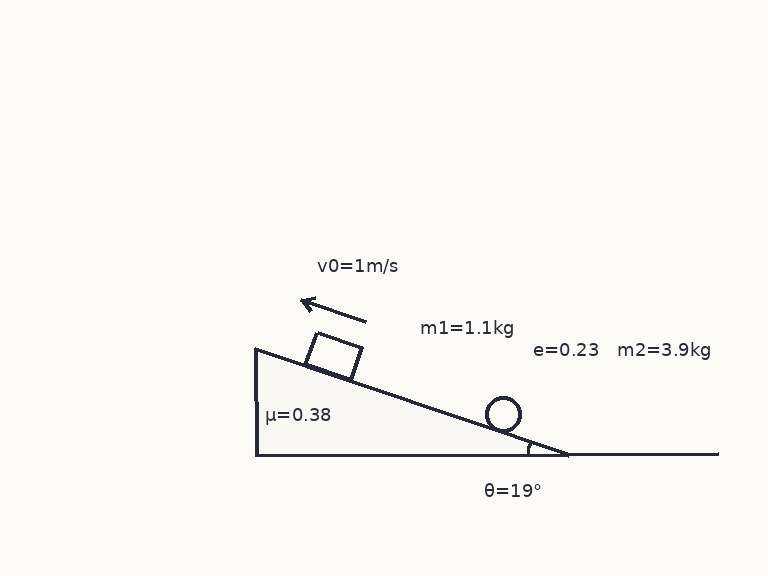ball: (483, 394, 523, 434)
block: (304, 330, 363, 382)
ramp: (254, 346, 570, 457)
